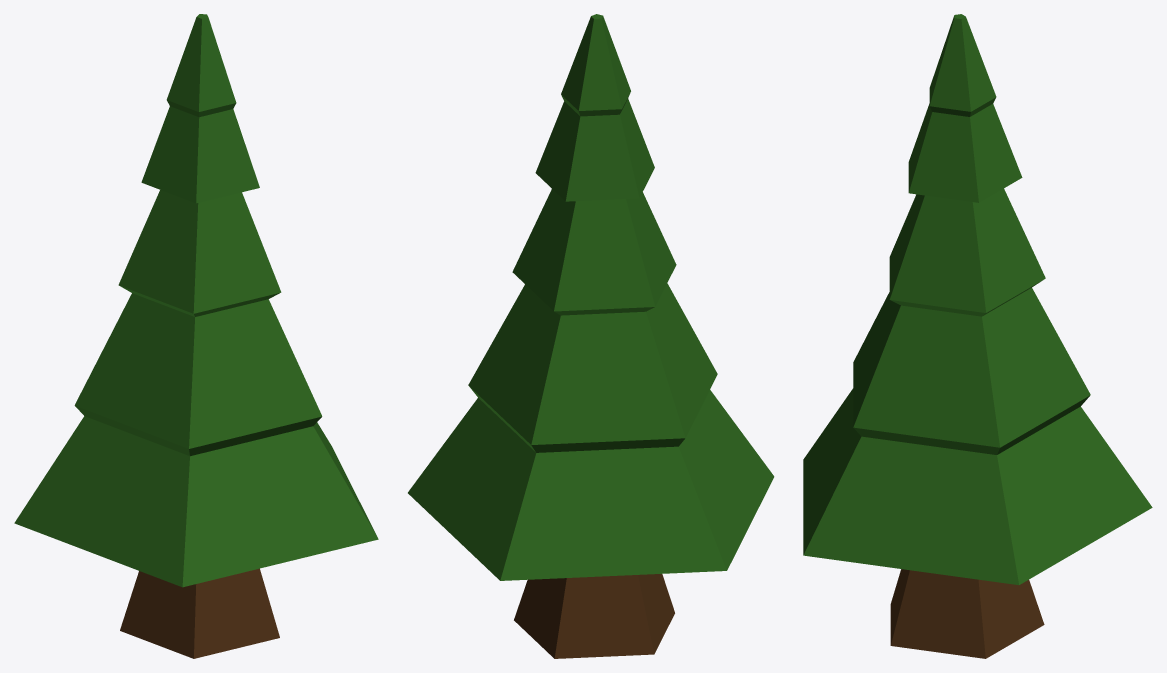
File: tree_1.fbx
3 views of the same model, side by side, from view 1: azimuth 30°, elevation 25°; view 2: azimuth 150°, elevation 25°; view 3: azimuth 270°, elevation 25° (orthographic).
Visible parts, largest first — view 1: tree_1; view 2: tree_1; view 3: tree_1.
Part boxes in pixels (<box>): tree_1: <box>14,14,378,658</box>; tree_1: <box>408,14,774,658</box>; tree_1: <box>803,14,1152,658</box>.
Bounding box in the file's own units: 411 × 432 × 790.
